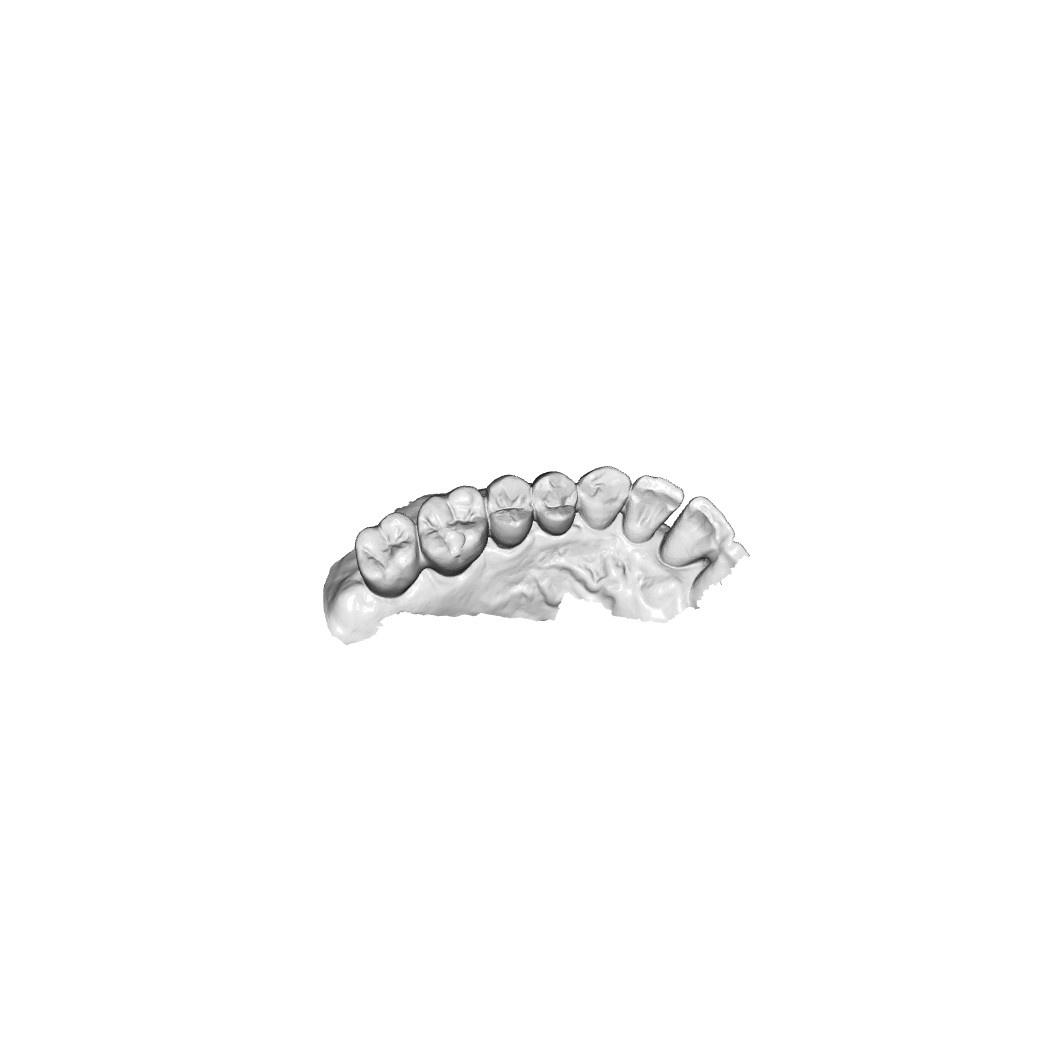canine: (577, 467, 629, 532)
incisor: (664, 491, 732, 564), (623, 474, 685, 542)
molar: (352, 510, 426, 599), (421, 484, 488, 575)
premolar: (488, 476, 535, 543), (533, 468, 578, 530)
